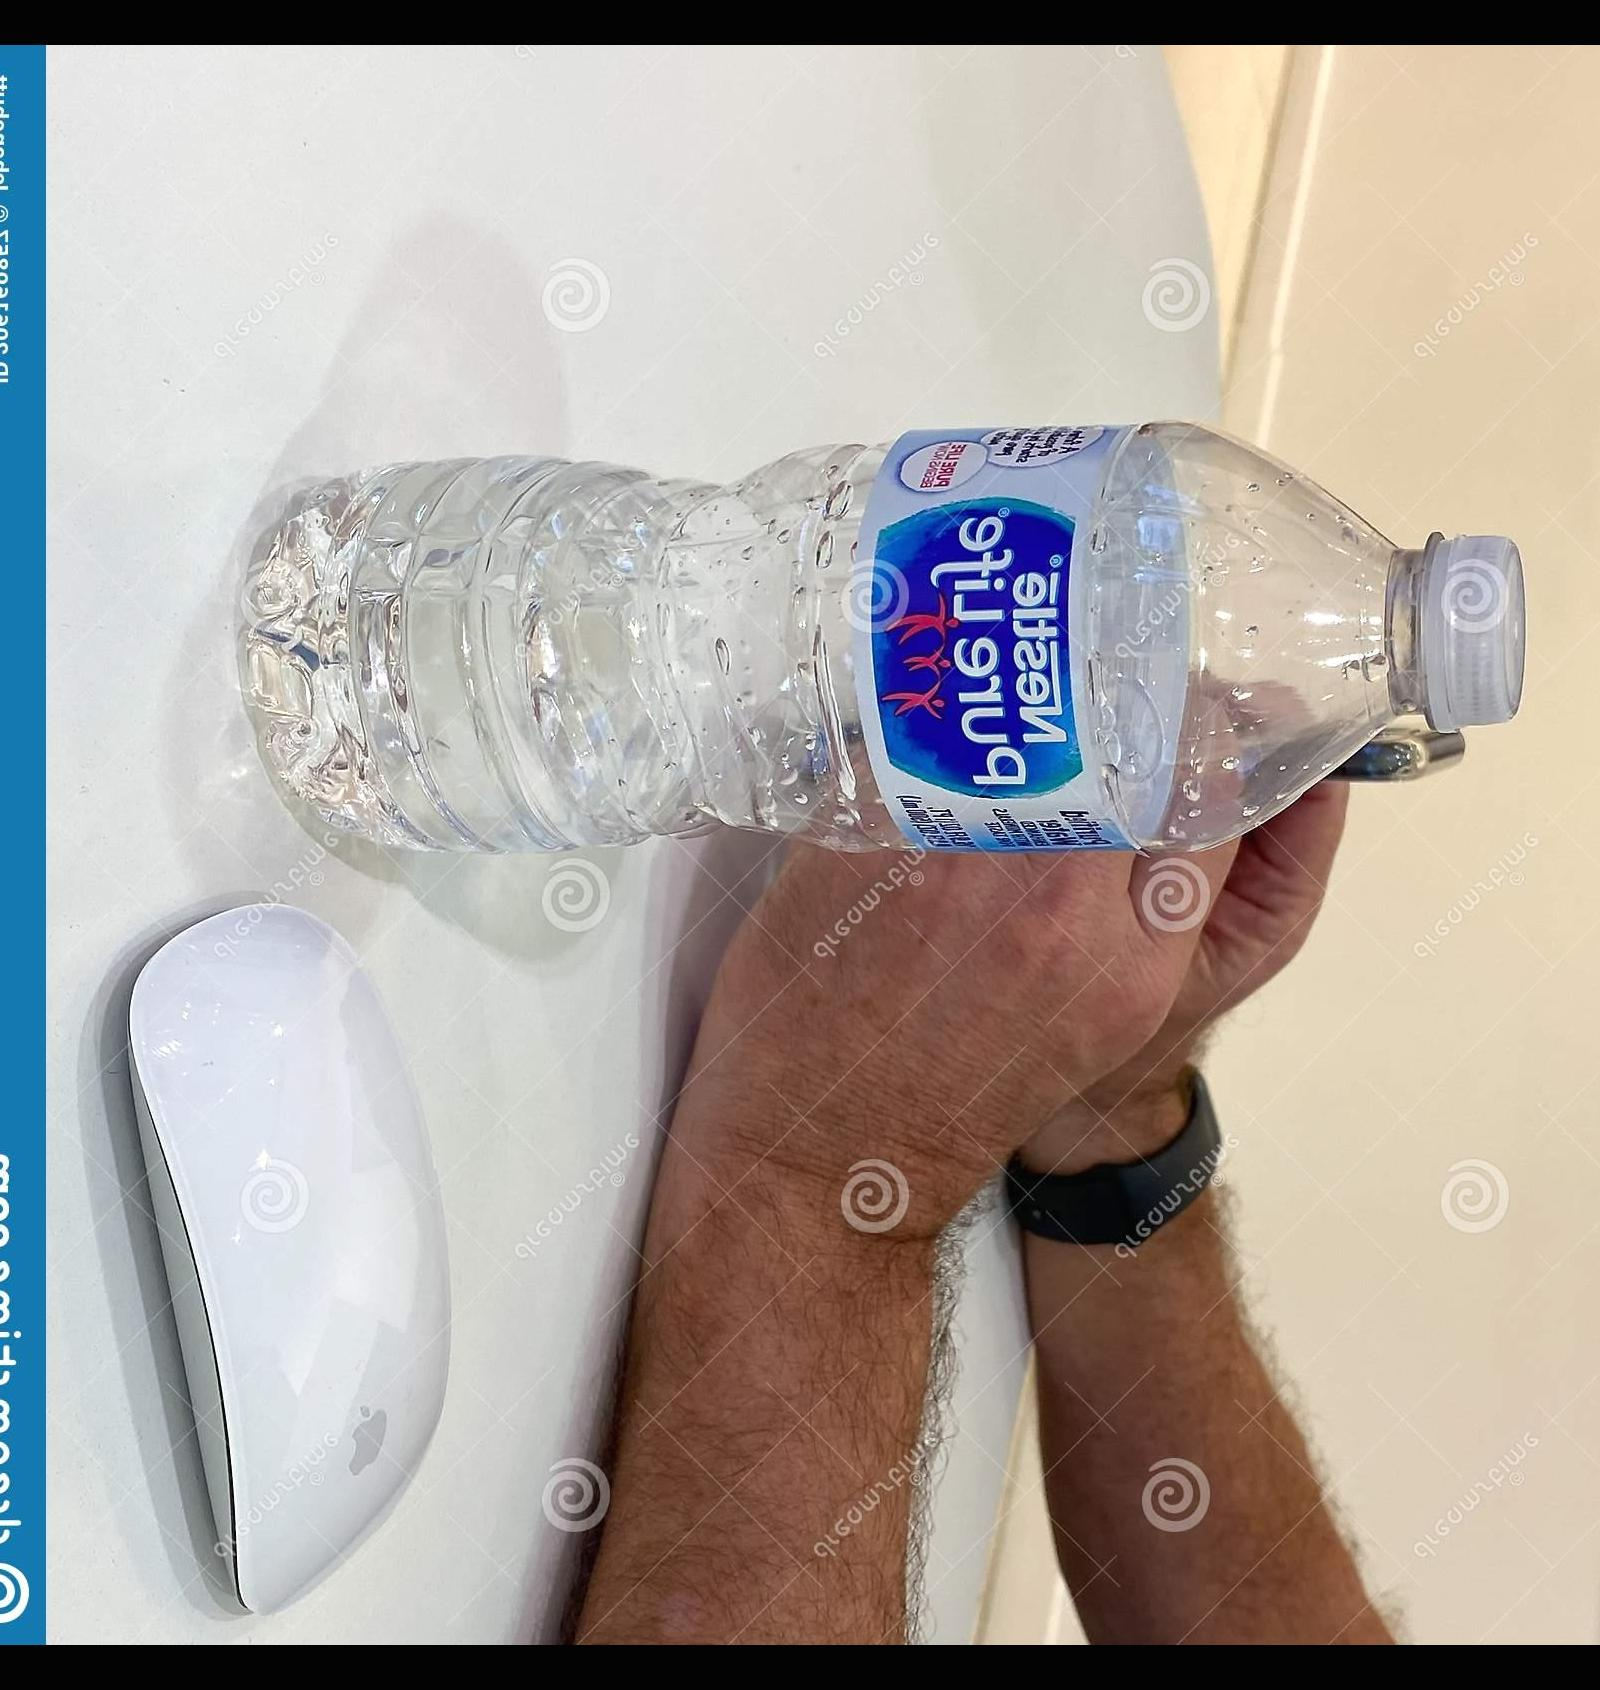bottle: (220, 400, 1556, 871)
